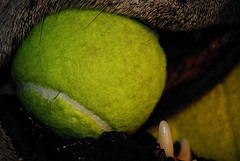tennis ball: (15, 7, 169, 141)
